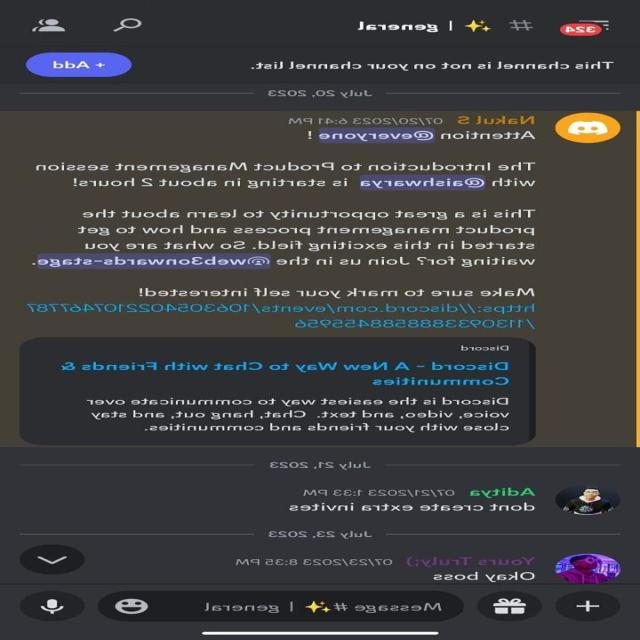BackgroundImage: (0, 113, 637, 447), (22, 336, 536, 442)
Drawer: (556, 590, 620, 622), (17, 545, 84, 574), (480, 590, 540, 621), (22, 590, 82, 620), (558, 17, 612, 39), (112, 598, 150, 616), (32, 18, 66, 34), (112, 18, 140, 34), (504, 19, 534, 33)
EditText: (284, 503, 536, 515), (553, 112, 621, 144), (553, 553, 620, 585), (555, 485, 621, 516), (426, 570, 536, 582)
Icon: (58, 360, 514, 386), (22, 302, 537, 314), (289, 316, 536, 330)
Modal: (28, 161, 542, 269), (80, 396, 510, 436), (135, 284, 543, 300), (248, 60, 614, 71), (302, 128, 532, 144), (353, 17, 494, 35), (300, 487, 459, 500), (237, 556, 396, 566), (265, 88, 372, 99), (268, 460, 370, 471), (264, 530, 373, 540), (460, 343, 509, 354)
